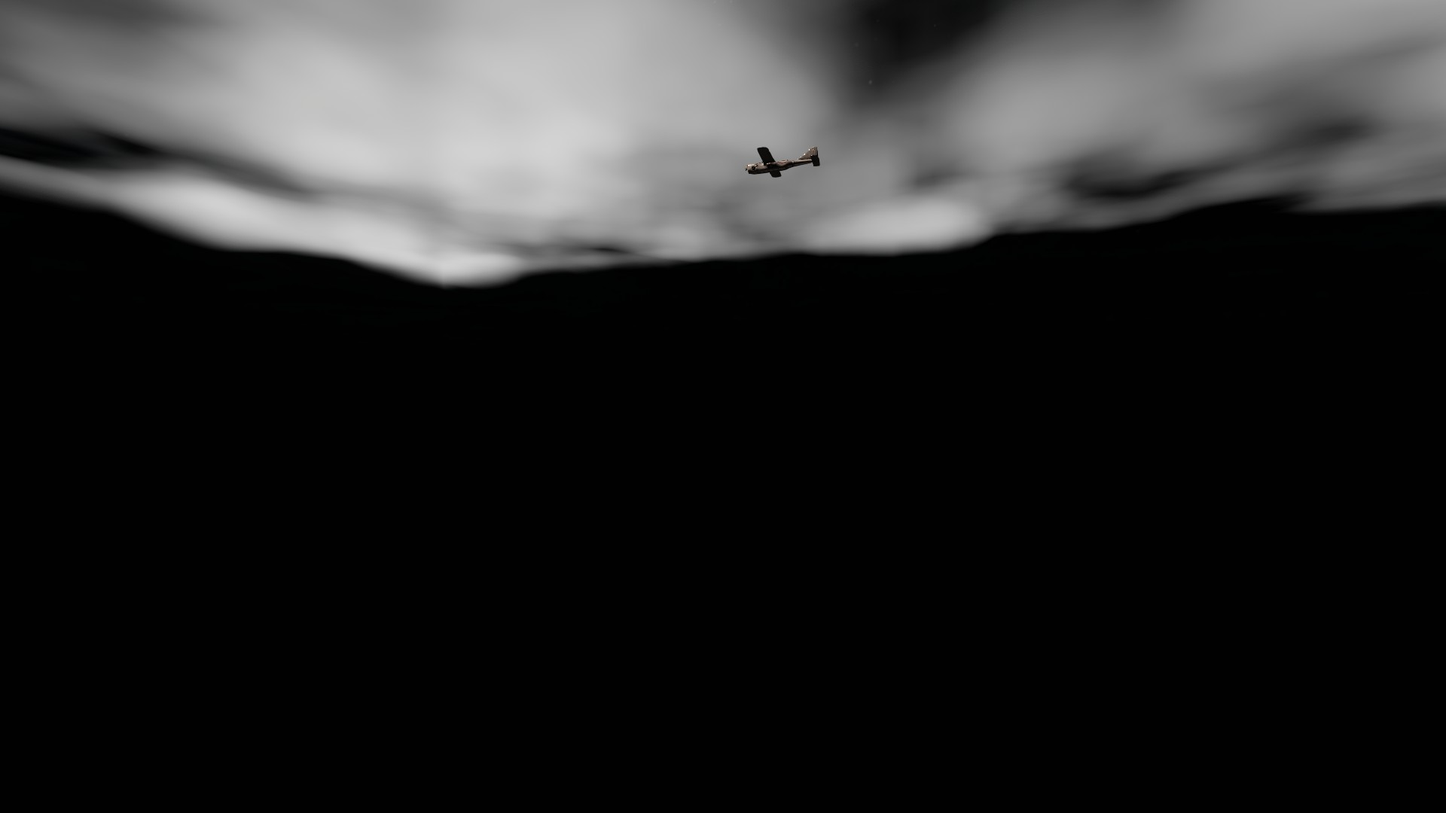drone_other: (745, 146, 821, 178)
